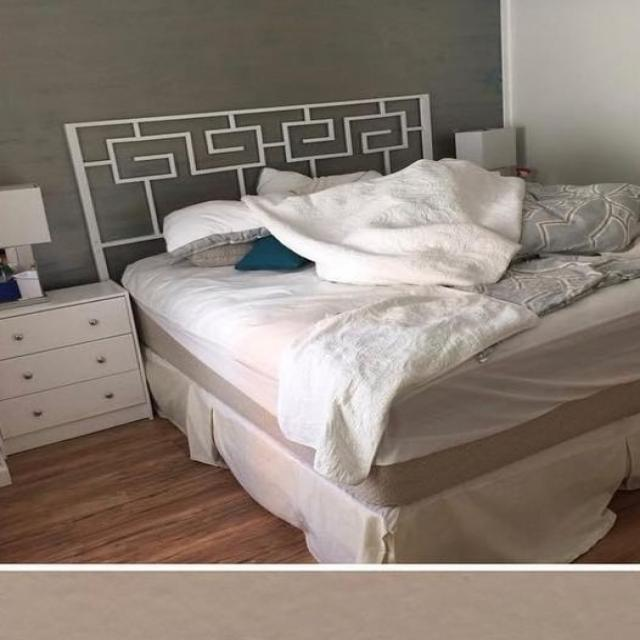bed: (137, 169, 640, 498)
